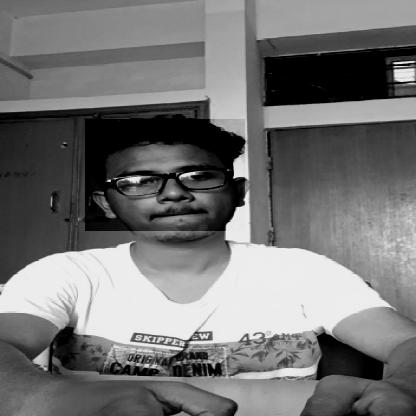Normal: (85, 119, 245, 231)
